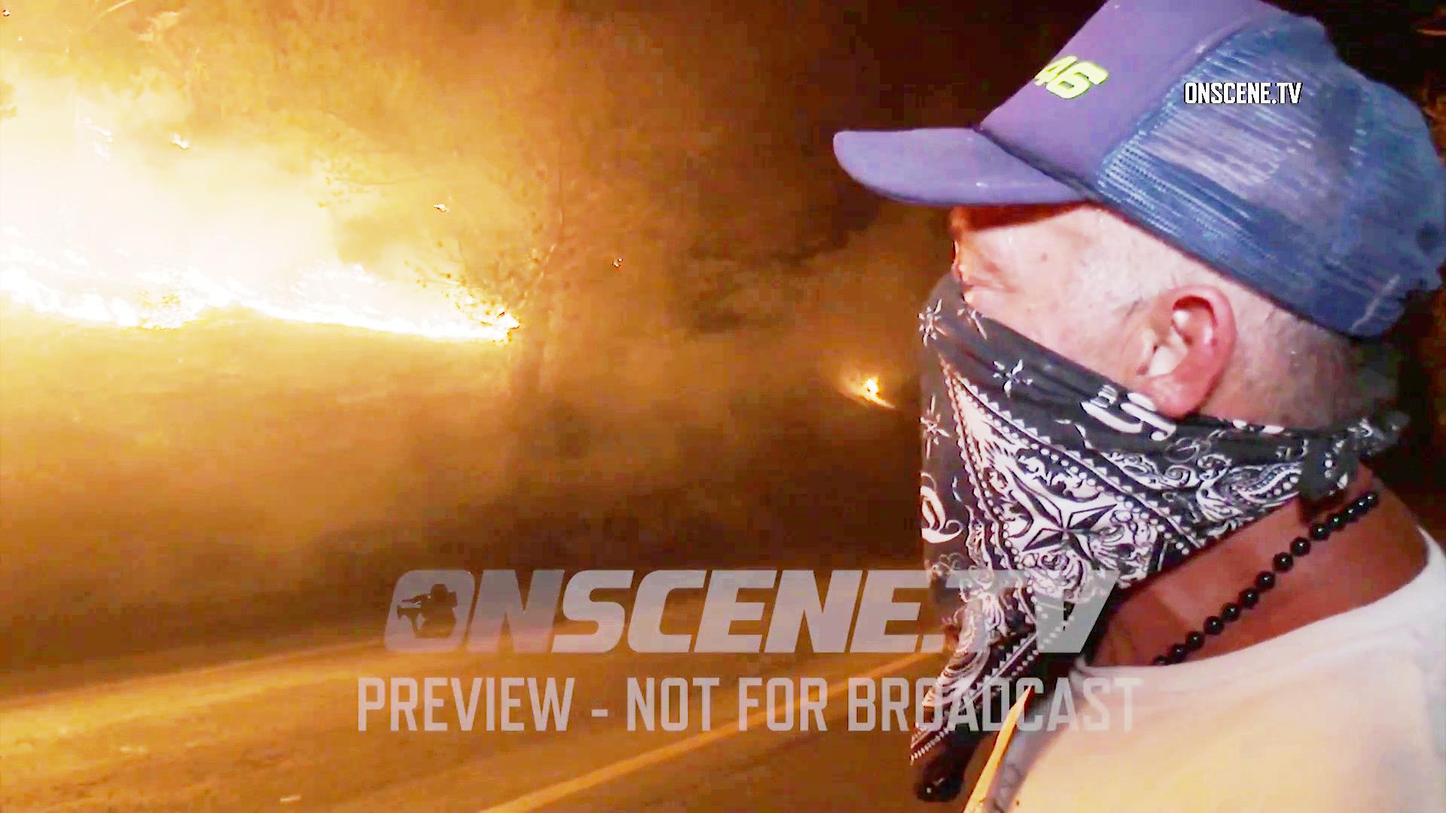fire: (0, 225, 383, 341)
